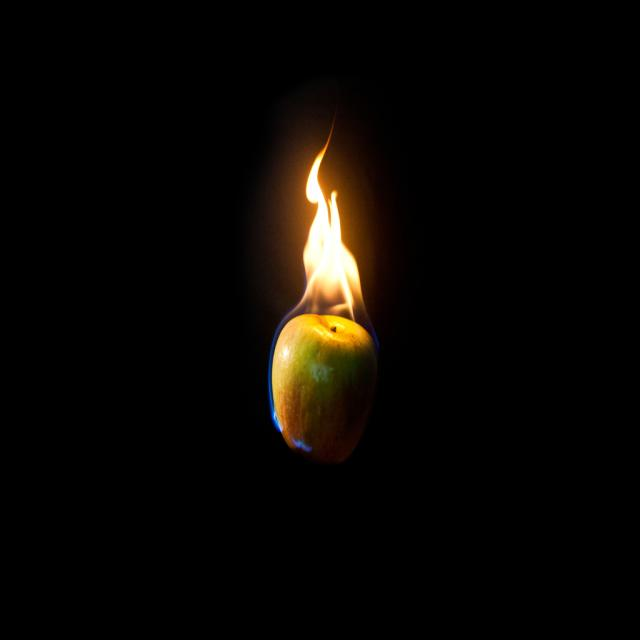Healty Apple: (262, 275, 380, 463)
